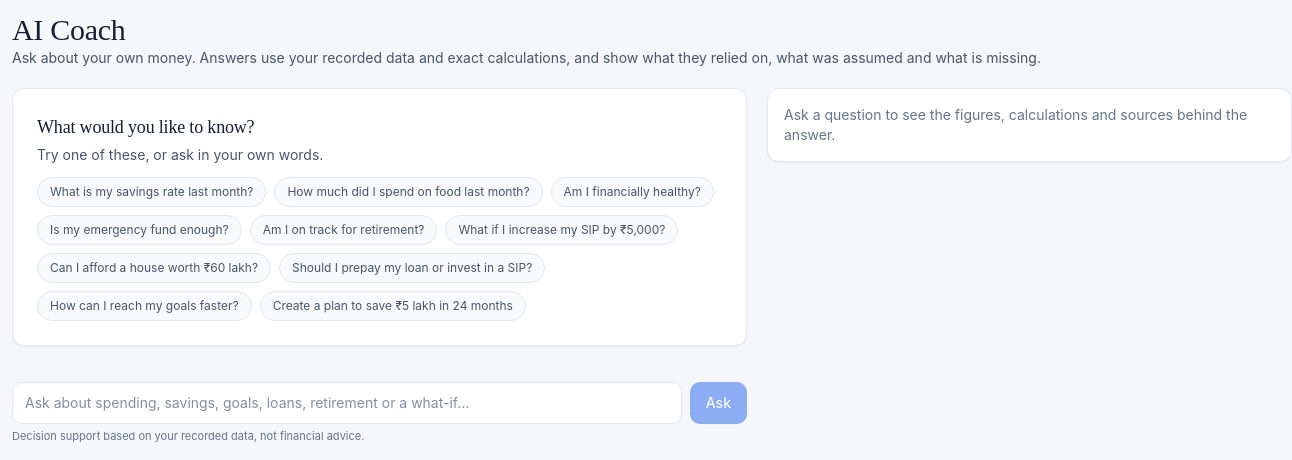
Test: Coach page › shows example questions when there is no history and asks one on click
Click the button "What is my savings rate last month?" at (152, 192), box [37,177,266,207]
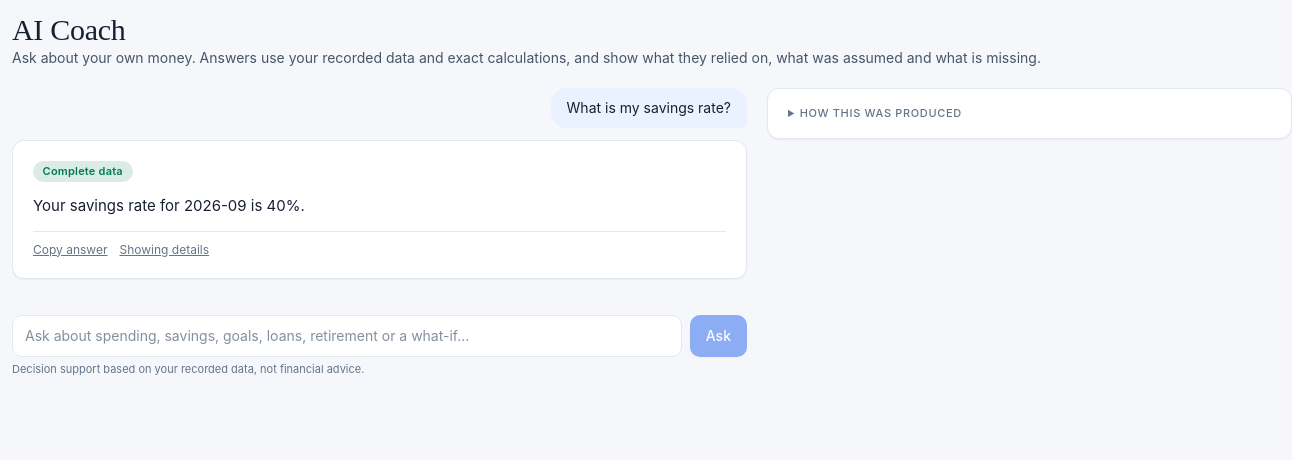
Check: the text "Your savings rate for 2026-09 is 40%." is shown, box [33,196,305,215]
